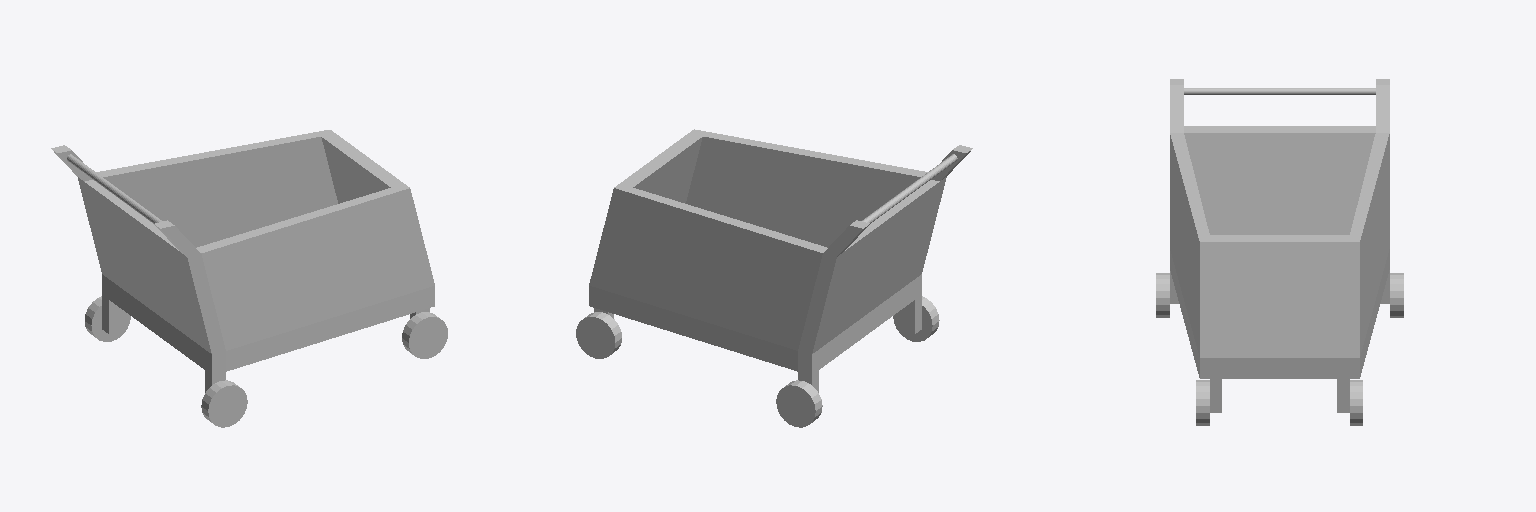
File: Cart.obj
3 views of the same model, side by side, from view 1: azimuth 30°, elevation 25°; view 2: azimuth 150°, elevation 25°; view 3: azimuth 270°, elevation 25° (orthographic).
Visible parts, largest first — view 1: initialShadingGroup pCube2; view 2: initialShadingGroup pCube2; view 3: initialShadingGroup pCube2.
Boxes of the visible parts, <box> form: initialShadingGroup pCube2: <box>51,130,447,427</box>; initialShadingGroup pCube2: <box>576,129,972,427</box>; initialShadingGroup pCube2: <box>1156,79,1403,425</box>.
Bounding box in the file's own units: 5.92 × 3.92 × 4.22.